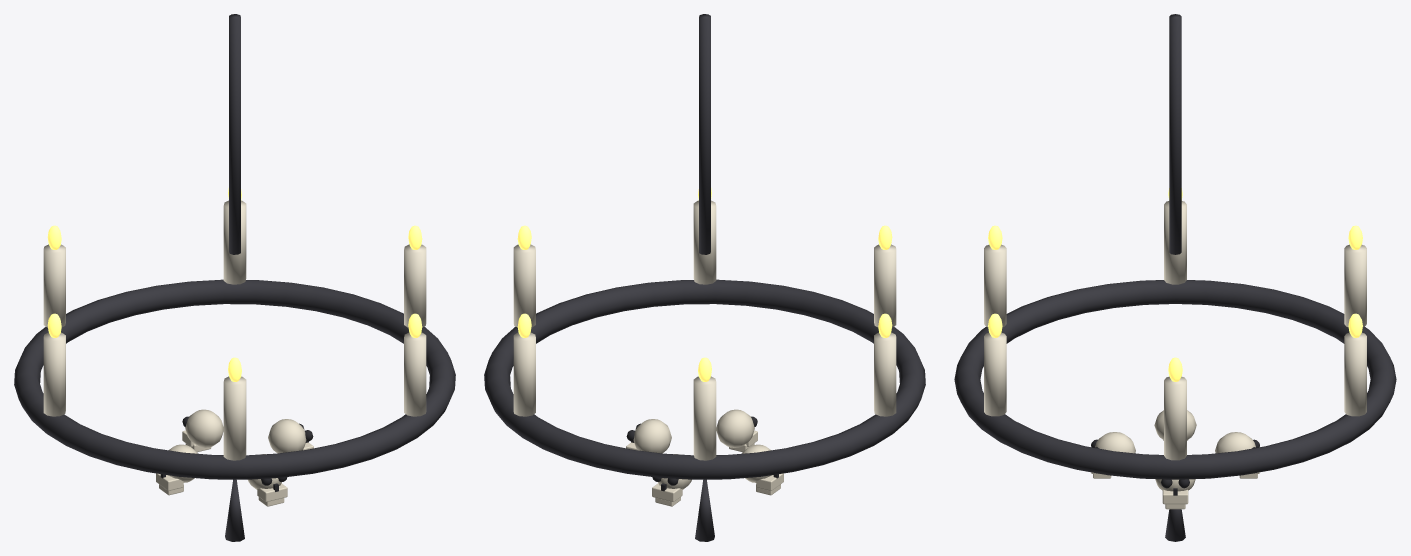
The model's file is chandelier_skull_crown.glb.
3 renders of one model, left to right at view 1: azimuth 30°, elevation 25°; view 2: azimuth 150°, elevation 25°; view 3: azimuth 270°, elevation 25°, orthographic.
Visible parts, largest first — view 1: GD_chandelier_skull_crown__m0, GD_chandelier_skull_crown__m1, GD_chandelier_skull_crown__m3, GD_chandelier_skull_crown__m2; view 2: GD_chandelier_skull_crown__m0, GD_chandelier_skull_crown__m1, GD_chandelier_skull_crown__m3, GD_chandelier_skull_crown__m2; view 3: GD_chandelier_skull_crown__m0, GD_chandelier_skull_crown__m1, GD_chandelier_skull_crown__m3, GD_chandelier_skull_crown__m2.
Part boxes in pixels (x1,y1,x2,y2): GD_chandelier_skull_crown__m0: [14, 14, 455, 541]; GD_chandelier_skull_crown__m1: [43, 200, 426, 460]; GD_chandelier_skull_crown__m3: [156, 409, 313, 506]; GD_chandelier_skull_crown__m2: [47, 188, 422, 381]; GD_chandelier_skull_crown__m0: [484, 14, 925, 541]; GD_chandelier_skull_crown__m1: [513, 200, 896, 460]; GD_chandelier_skull_crown__m3: [626, 409, 783, 506]; GD_chandelier_skull_crown__m2: [517, 188, 892, 381]; GD_chandelier_skull_crown__m0: [954, 14, 1396, 541]; GD_chandelier_skull_crown__m1: [984, 201, 1366, 460]; GD_chandelier_skull_crown__m3: [1091, 410, 1259, 509]; GD_chandelier_skull_crown__m2: [988, 188, 1362, 381].
Size of the model in its own units: 0.85 by 1.1 by 0.85.
